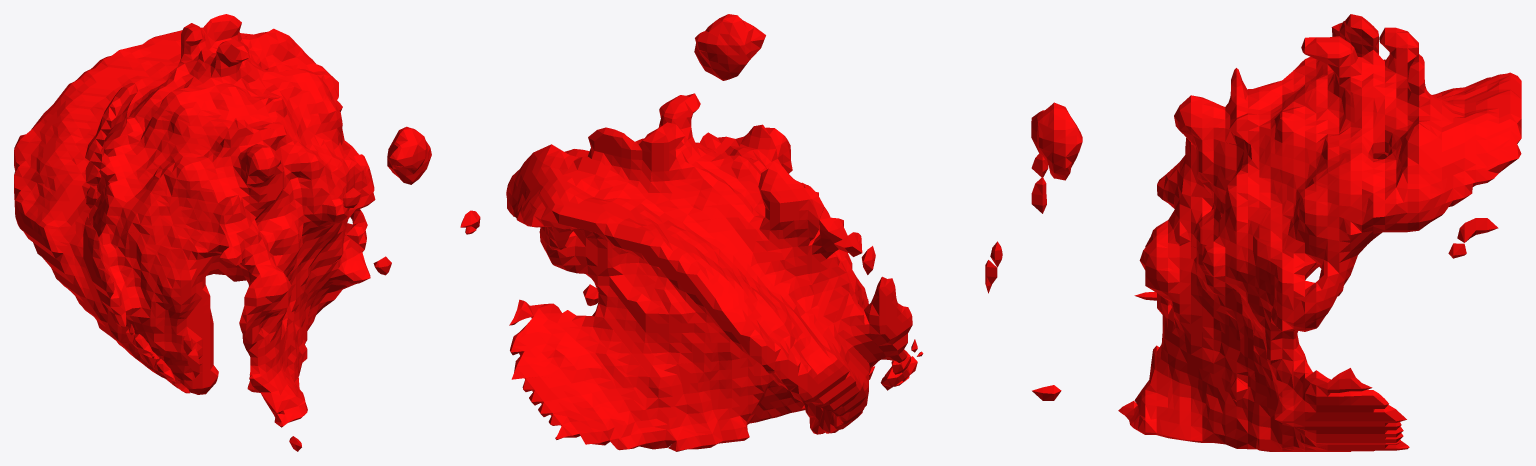
File: B939XXXX-1_valve_5.obj
3 views of the same model, side by side, from view 1: azimuth 30°, elevation 25°; view 2: azimuth 150°, elevation 25°; view 3: azimuth 270°, elevation 25° (orthographic). The views are drawn at different scales.
Visible parts, largest first — view 1: 5_valve; view 2: 5_valve; view 3: 5_valve.
Boxes of the visible parts, x1,y1,x2,y2 form: 5_valve: [14, 14, 431, 451]; 5_valve: [460, 14, 1002, 451]; 5_valve: [1031, 14, 1521, 451].
Size of the model in its own units: 75.84 by 76.97 by 85.95.
